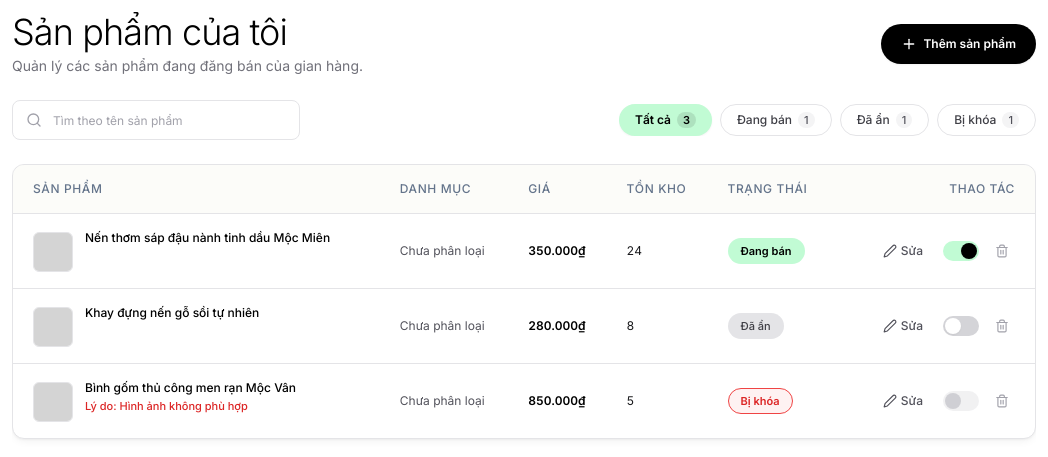
Test: MyProductsPage › filters products by status filter chips
Check: the text "Nến thơm sáp đậu nành tinh dầu Mộc Miên" is shown, box [85,230,330,246]
# Click "Bị khóa" filter chip
Click the button "Bị khóa 1".
click(987, 120)  # box [937,104,1036,136]
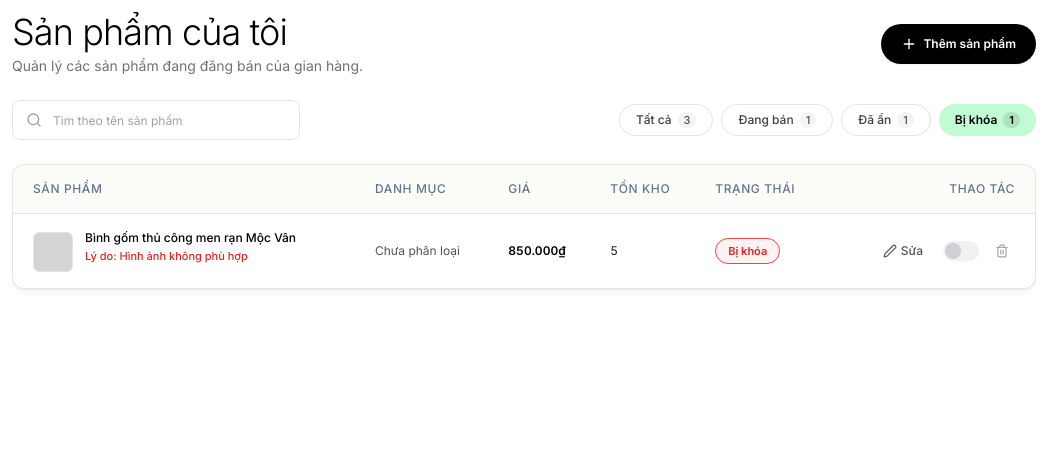
Check: the text "Bình gốm thủ công men rạn Mộc Vân" is shown, box [85,230,296,246]
Check: the text "Nến thơm sáp đậu nành tinh dầu Mộc Miên" is gone
